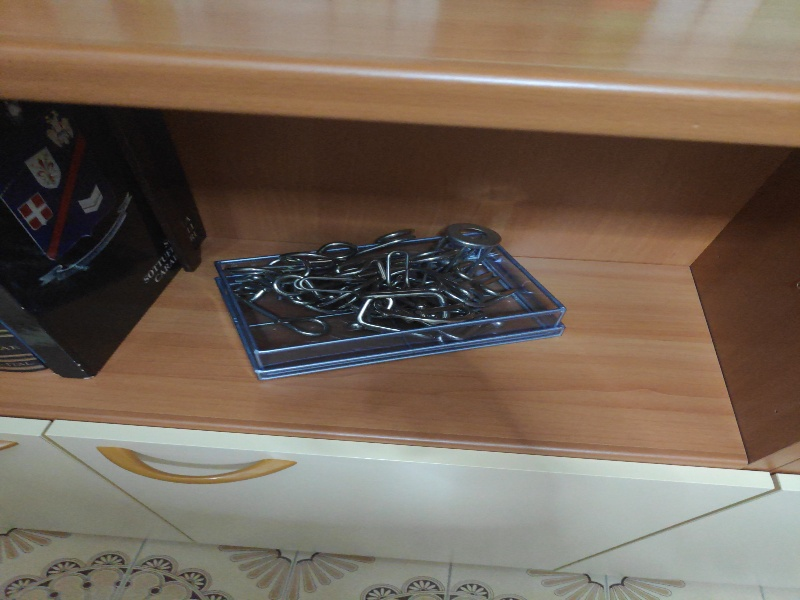games: (210, 219, 570, 380)
